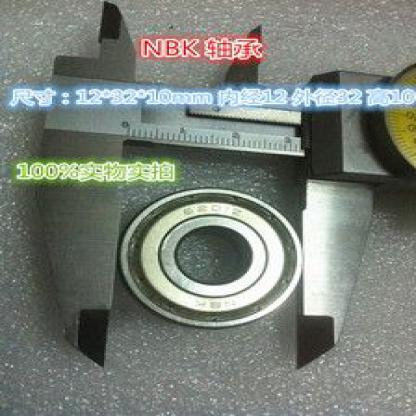FOD: (113, 184, 305, 329)
